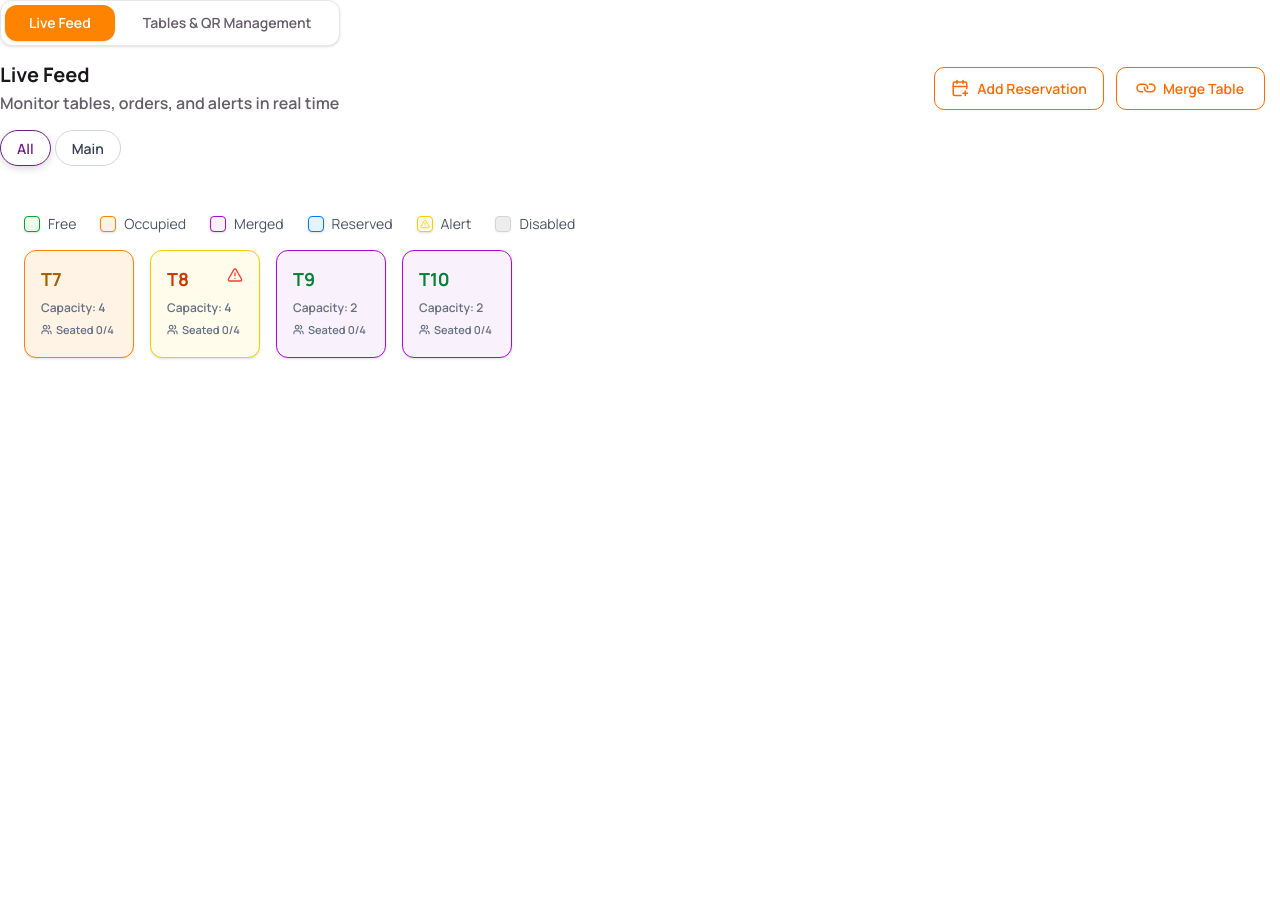
Test: TablesDashboard — operations profile › mergeTables on: a merged group offers Unmerge
Click the text "T9" at (304, 279), box [293,267,315,291]
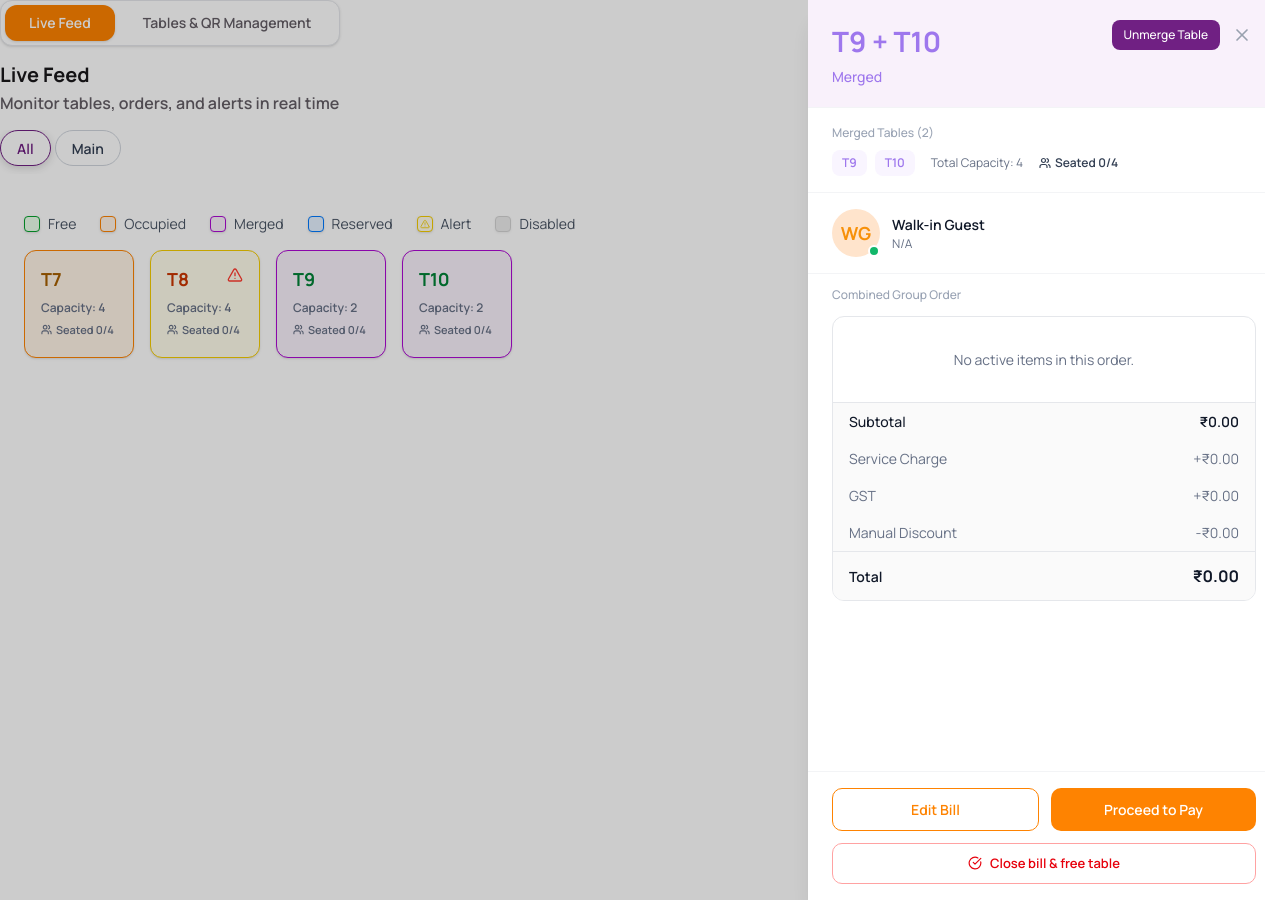
Expected: the button "Unmerge Table" is shown, [1112,20,1220,50]
